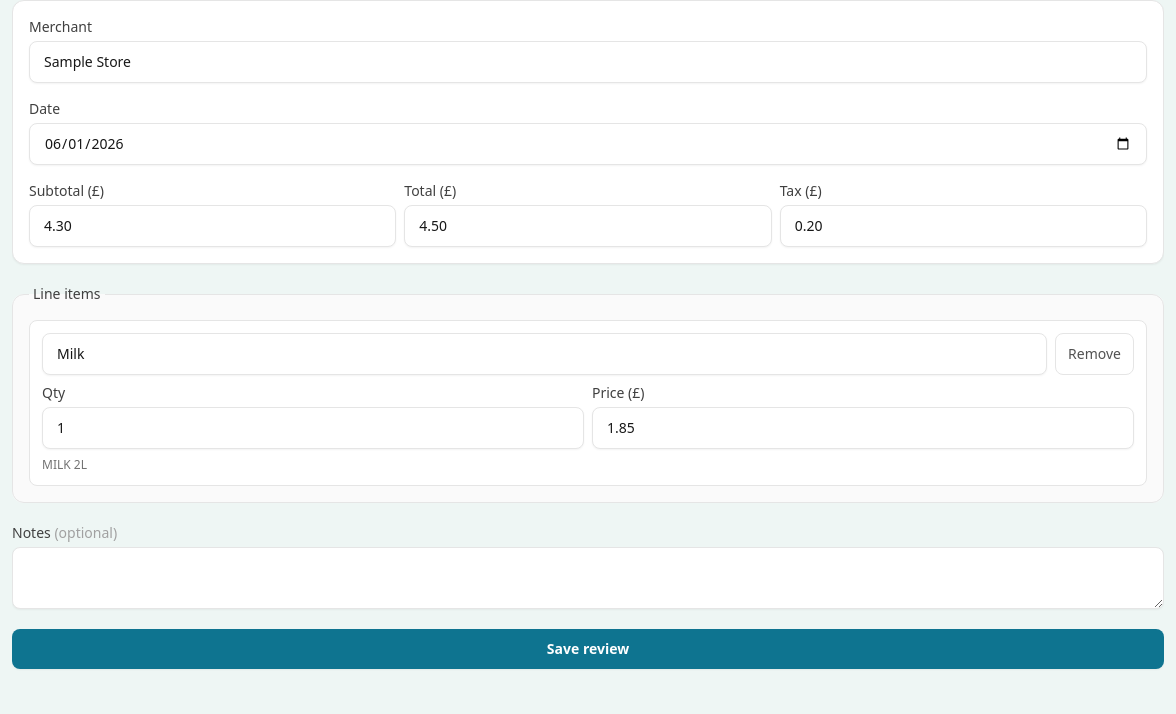
Test: ReceiptReviewForm › surfaces a per-item validation error from the action
The image size is (1176, 714).
Click the button "Save review" at coordinates (588, 649), box x1=12 y1=629 x2=1164 y2=669
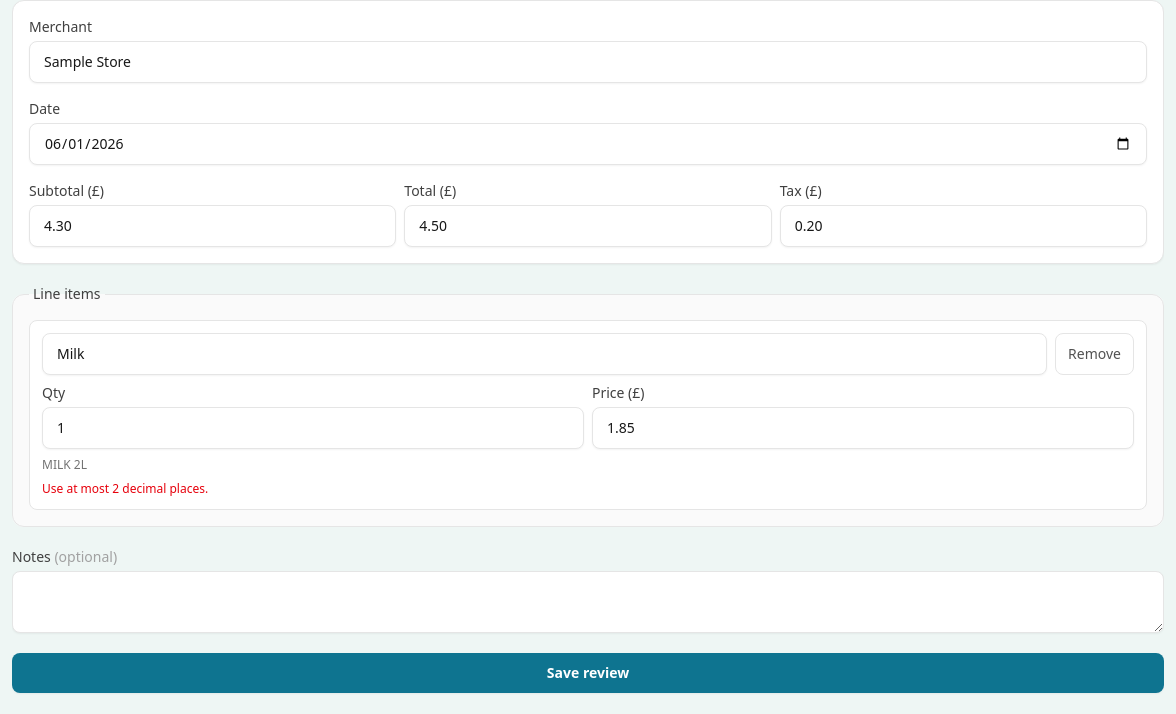
Expected: the text "Use at most 2 decimal places." is shown, x1=42 y1=480 x2=208 y2=497
